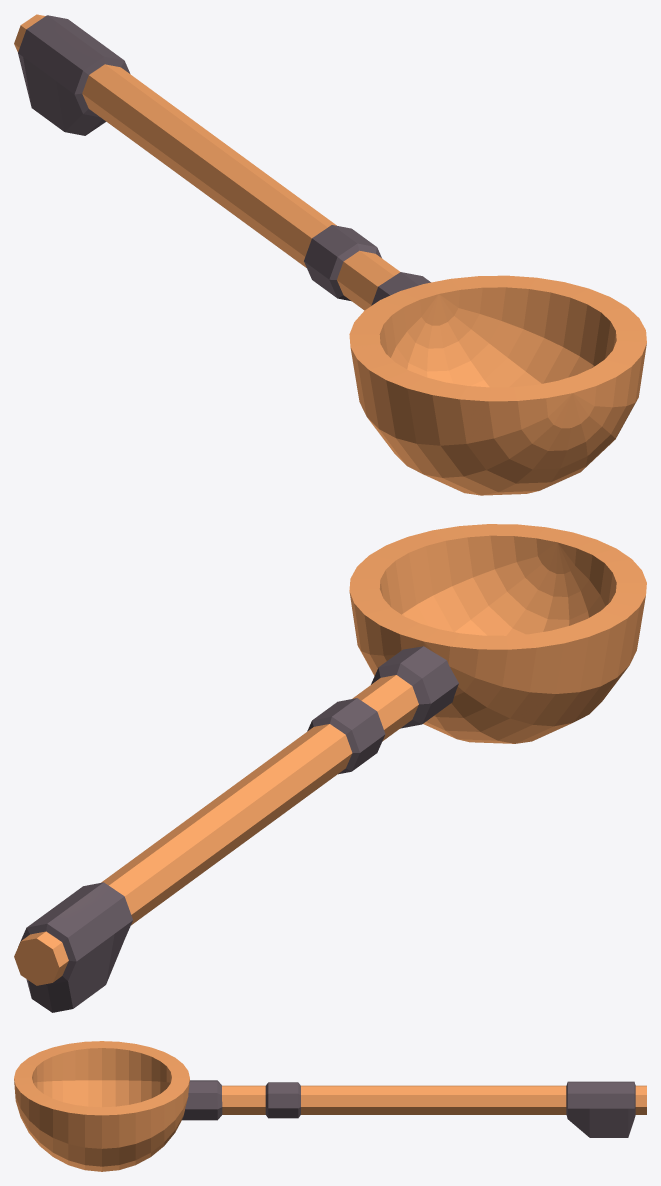
Rendered from catapultArm.glb.
3 views of the same model, one above another, from view 1: azimuth 30°, elevation 25°; view 2: azimuth 150°, elevation 25°; view 3: azimuth 270°, elevation 25° (orthographic). The views are drawn at different scales.
Visible parts, largest first — view 1: Arm; view 2: Arm; view 3: Arm.
Part boxes in pixels (x1=…): Arm: x1=14, y1=14, x2=646, y2=495; Arm: x1=14, y1=524, x2=646, y2=1012; Arm: x1=14, y1=1041, x2=646, y2=1171.
Size of the model in its own units: 2 by 1.08 by 7.19.
Materials: 1 (1 with a texture image).
